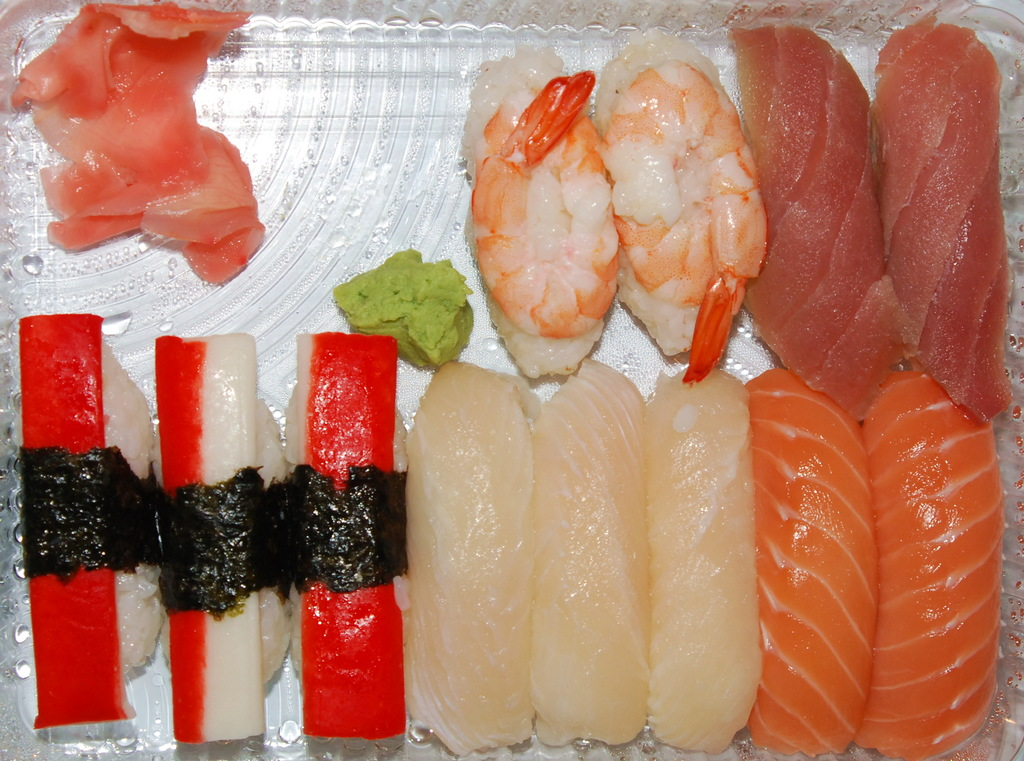sushi: (716, 14, 911, 421), (6, 0, 252, 300), (10, 304, 165, 738), (861, 8, 1023, 422), (583, 22, 768, 376), (147, 329, 299, 748), (278, 317, 421, 751), (455, 43, 622, 380), (858, 355, 997, 758), (735, 363, 872, 755), (644, 361, 778, 751), (523, 351, 651, 749), (408, 350, 519, 753)
